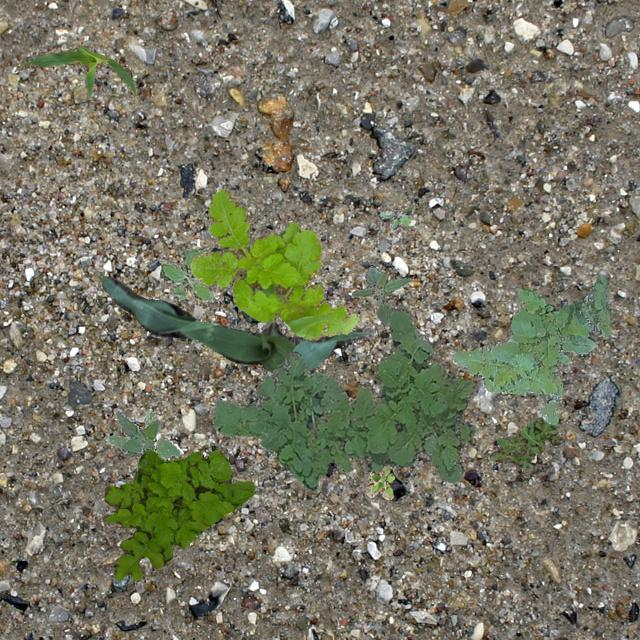crop: (100, 276, 374, 372), (15, 44, 137, 104)
weed: (210, 306, 474, 488), (190, 188, 358, 338), (452, 274, 610, 424), (100, 448, 254, 580), (488, 413, 562, 468), (104, 408, 180, 461), (350, 264, 410, 324), (160, 244, 212, 302), (114, 411, 160, 454), (364, 464, 394, 498), (378, 206, 412, 228)
